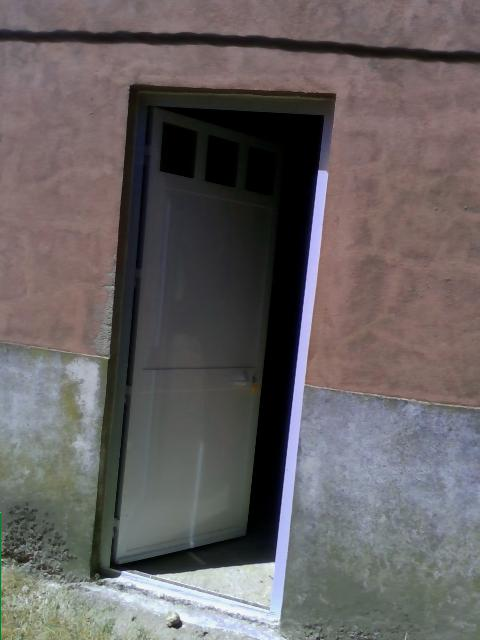semi_door: (85, 83, 338, 619)
